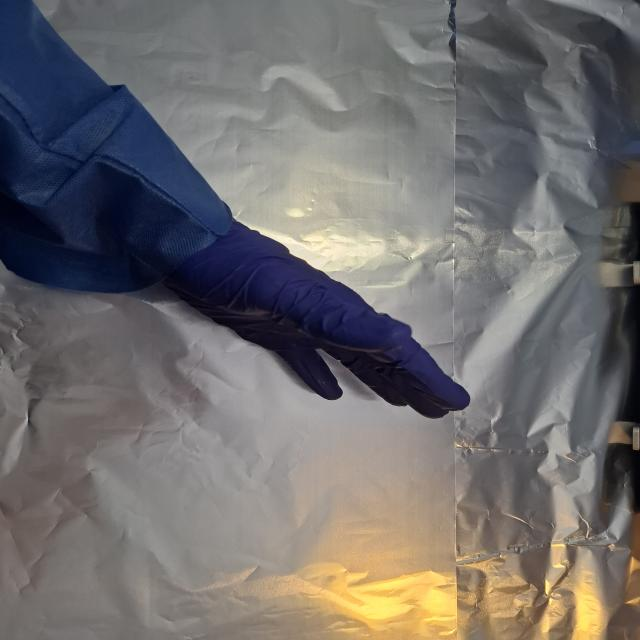glove_on: (159, 221, 473, 421)
